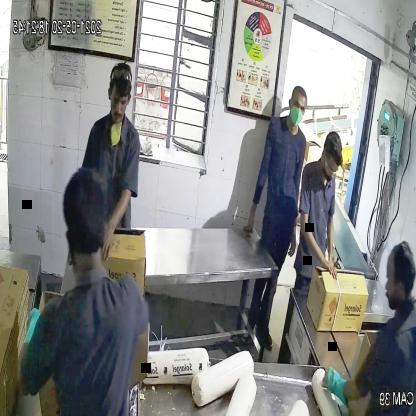goggles: (323, 162, 341, 179)
no_goggles: (109, 91, 130, 110), (289, 98, 310, 113)
